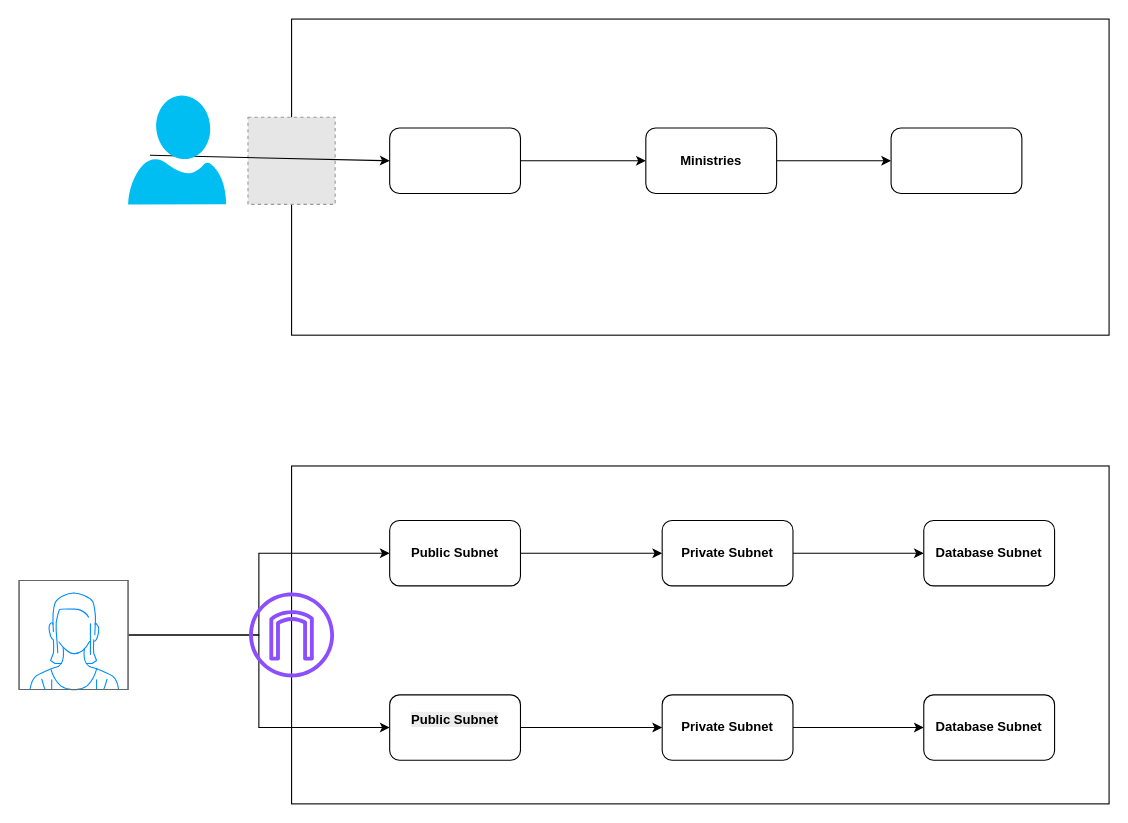
Image size: 1128x823. Some labels were removed from this diagram. Grey dashed boxes stand in for pictures. Each missing label, with the centre of its shape:
"PMO" goes at [956,160].
"Public Affairs" goes at [454,160].
